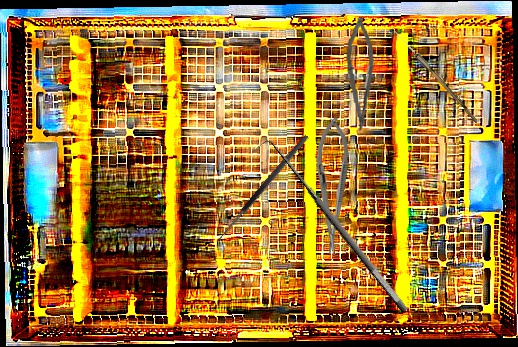Hook Surgical: (252, 132, 412, 325), (214, 133, 315, 249)
Micro Scissor: (343, 16, 380, 132)
Needle Holder: (313, 116, 351, 256)
Surgical Spoon: (391, 28, 481, 124)
